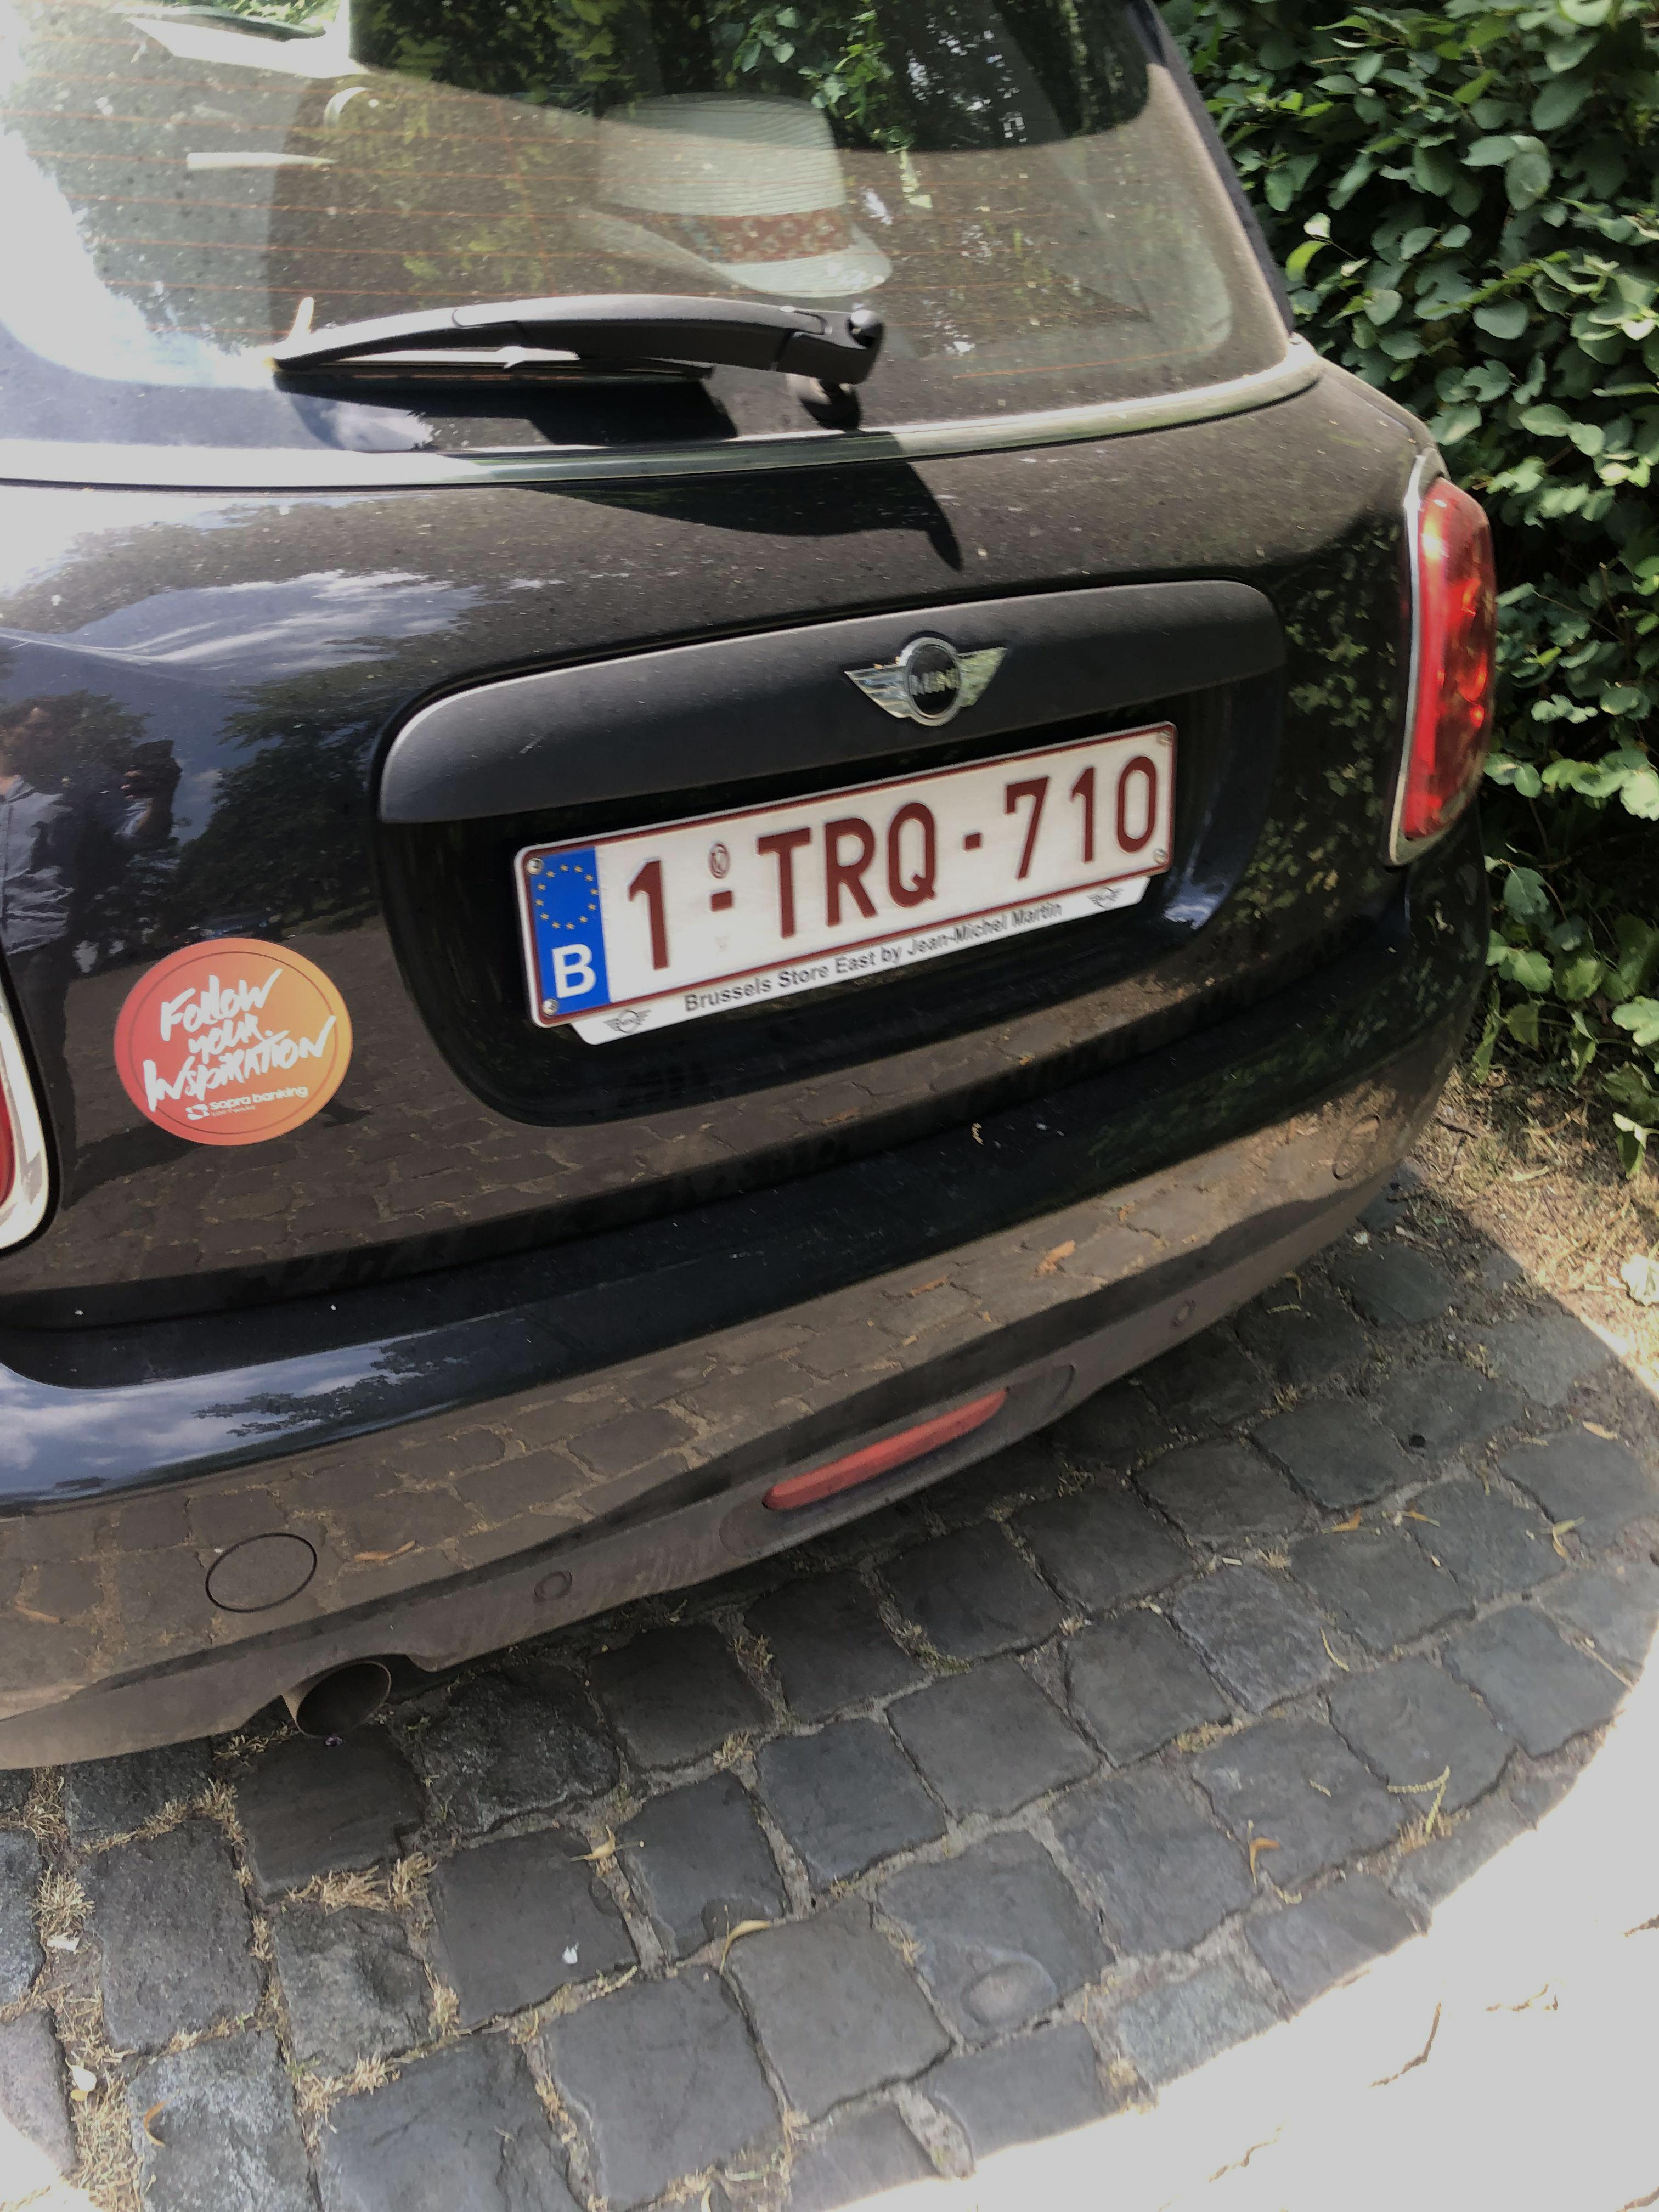plate: (487, 707, 1214, 1041)
